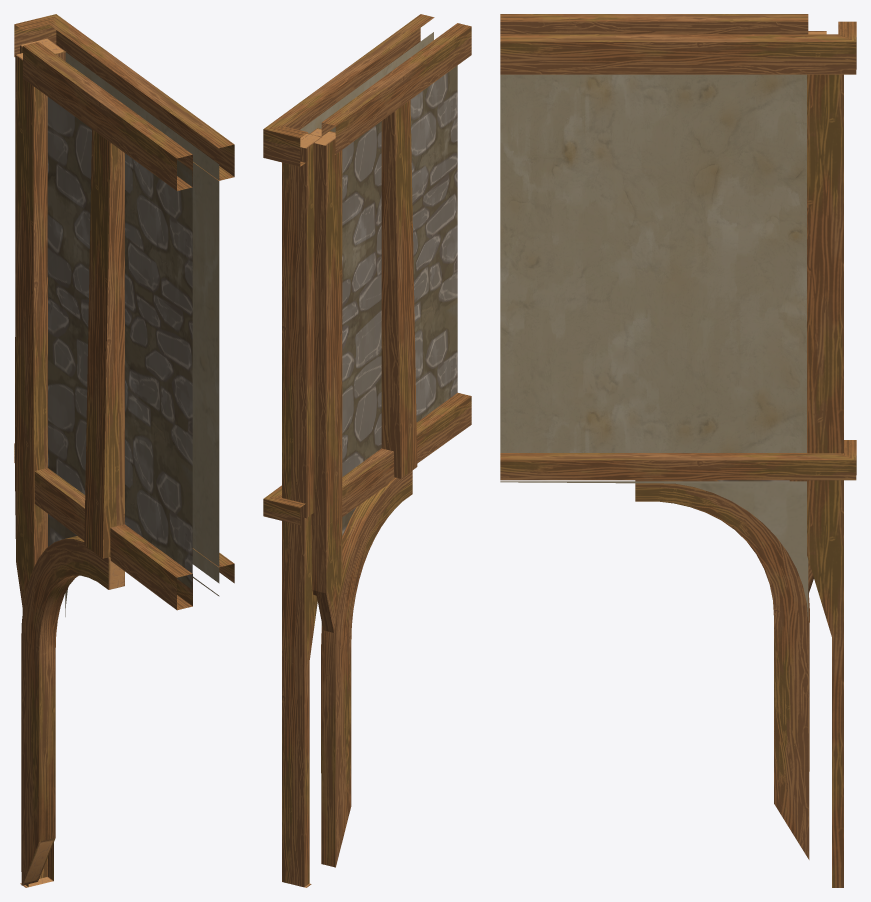
File: Overhang_Side_UnevenBrick_Long_L.gltf
3 renders of one model, left to right at view 1: azimuth 30°, elevation 25°; view 2: azimuth 150°, elevation 25°; view 3: azimuth 270°, elevation 25°, orthographic. The views are drawn at different scales.
Parts seen in each view (by area): view 1: Overhang_Side_UnevenBrick_Long_L; view 2: Overhang_Side_UnevenBrick_Long_L; view 3: Overhang_Side_UnevenBrick_Long_L.
Part boxes in pixels (x1,y1,x2,y2): Overhang_Side_UnevenBrick_Long_L: [14, 14, 234, 887]; Overhang_Side_UnevenBrick_Long_L: [263, 14, 471, 887]; Overhang_Side_UnevenBrick_Long_L: [500, 14, 856, 887].
Bounding box in the file's own units: 0.4793 × 6.12 × 2.31.
Materials: 3 (3 with a texture image).
